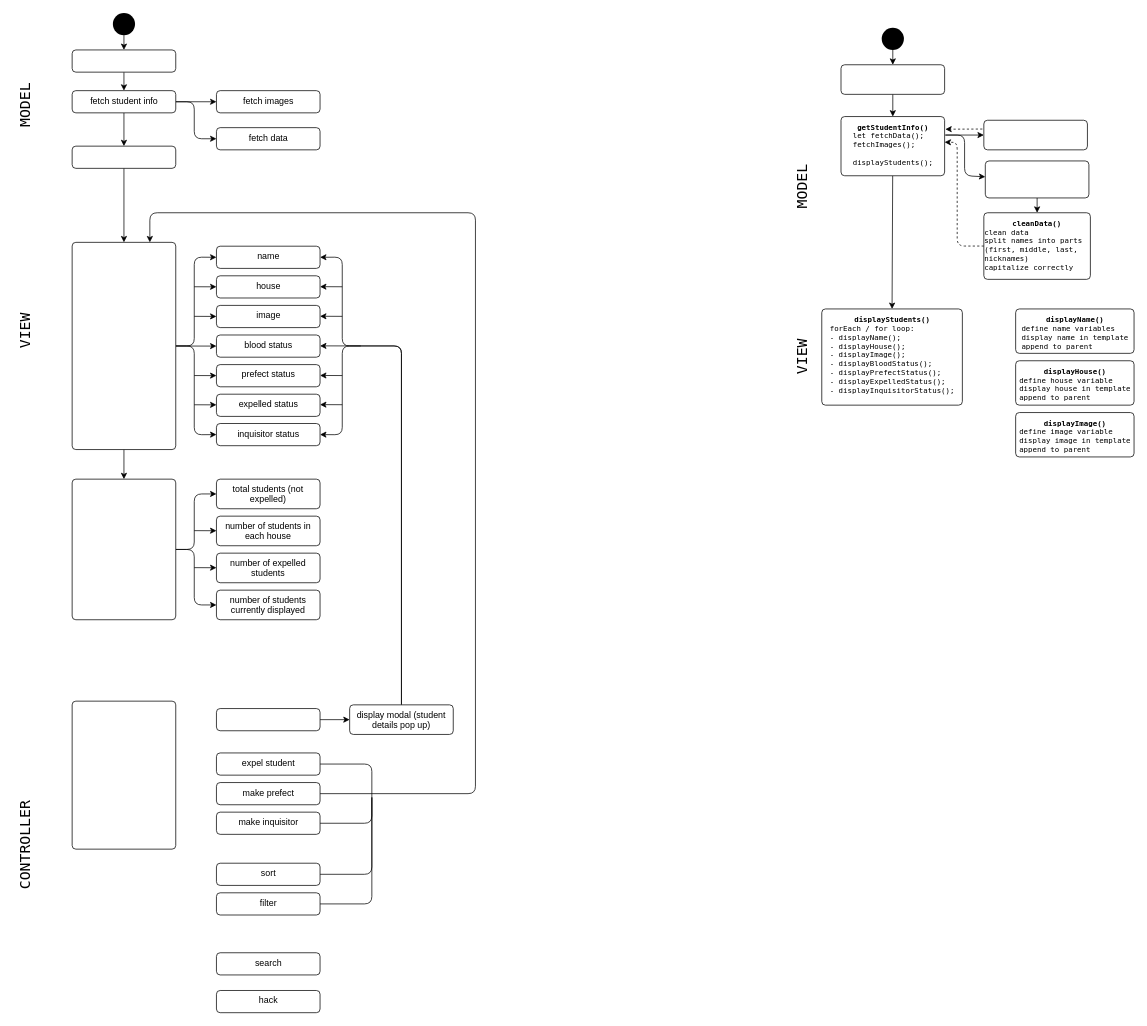
This 1147x1026 diagram has some shape labels left out. Here are the shapes that lost their labels. From the top down, the centre of each, then its label:
At point 123,60: "Initialise".
At point 892,79: "init() getStudentInfo();".
At point 1035,135: "fetchImages() fetch student images".
At point 123,156: "clean data".
At point 1037,179: "fetchData() fetch student list cleanData();".
At point 123,346: "display students".
At point 123,549: "update interface".
At point 268,719: "view student details".
At point 123,774: "listen for input".
